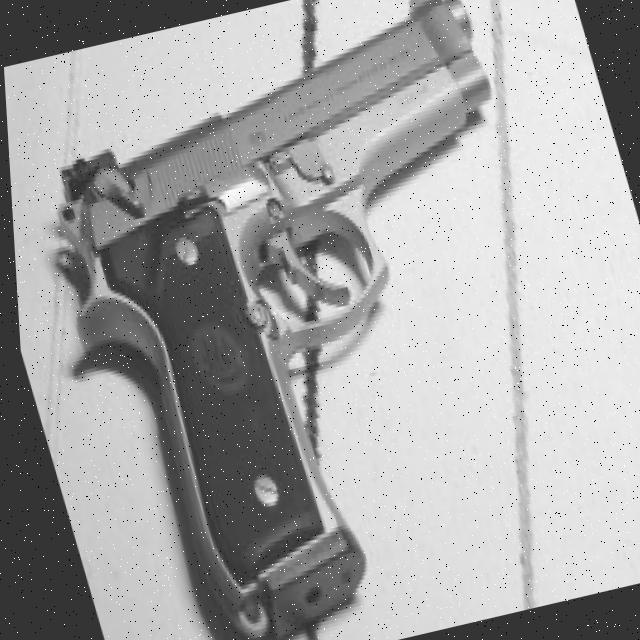pistol: (0, 0, 627, 640)
